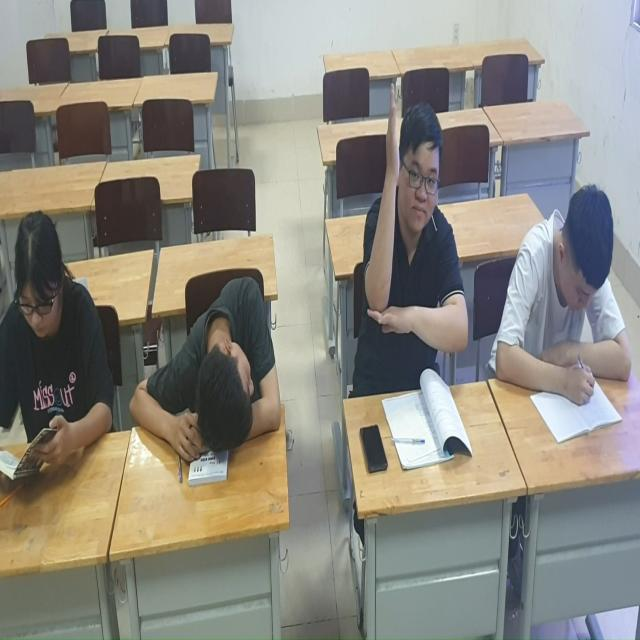raise_hand: (339, 77, 486, 464)
read: (489, 157, 636, 445), (1, 204, 128, 502)
sleep: (128, 282, 299, 490)
